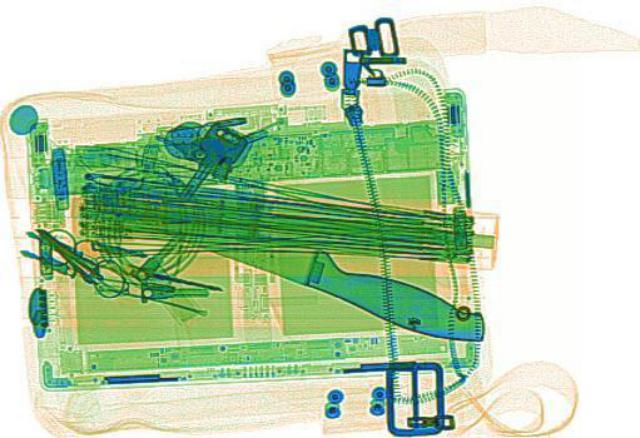Knife: (97, 171, 501, 350)
